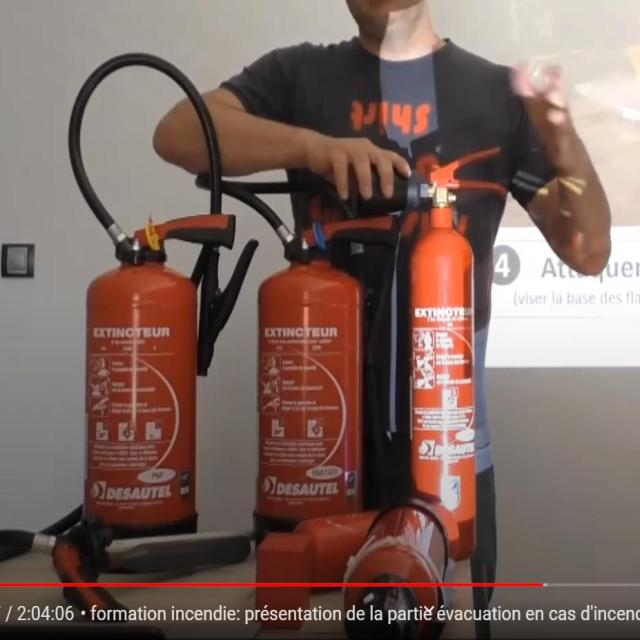fire_extinguisher: (62, 44, 260, 575), (186, 156, 415, 590), (341, 141, 512, 566), (332, 489, 470, 639)
